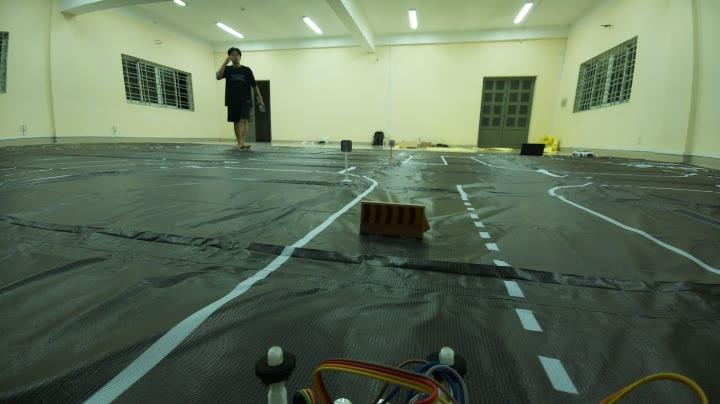roadblock: (352, 194, 444, 252)
